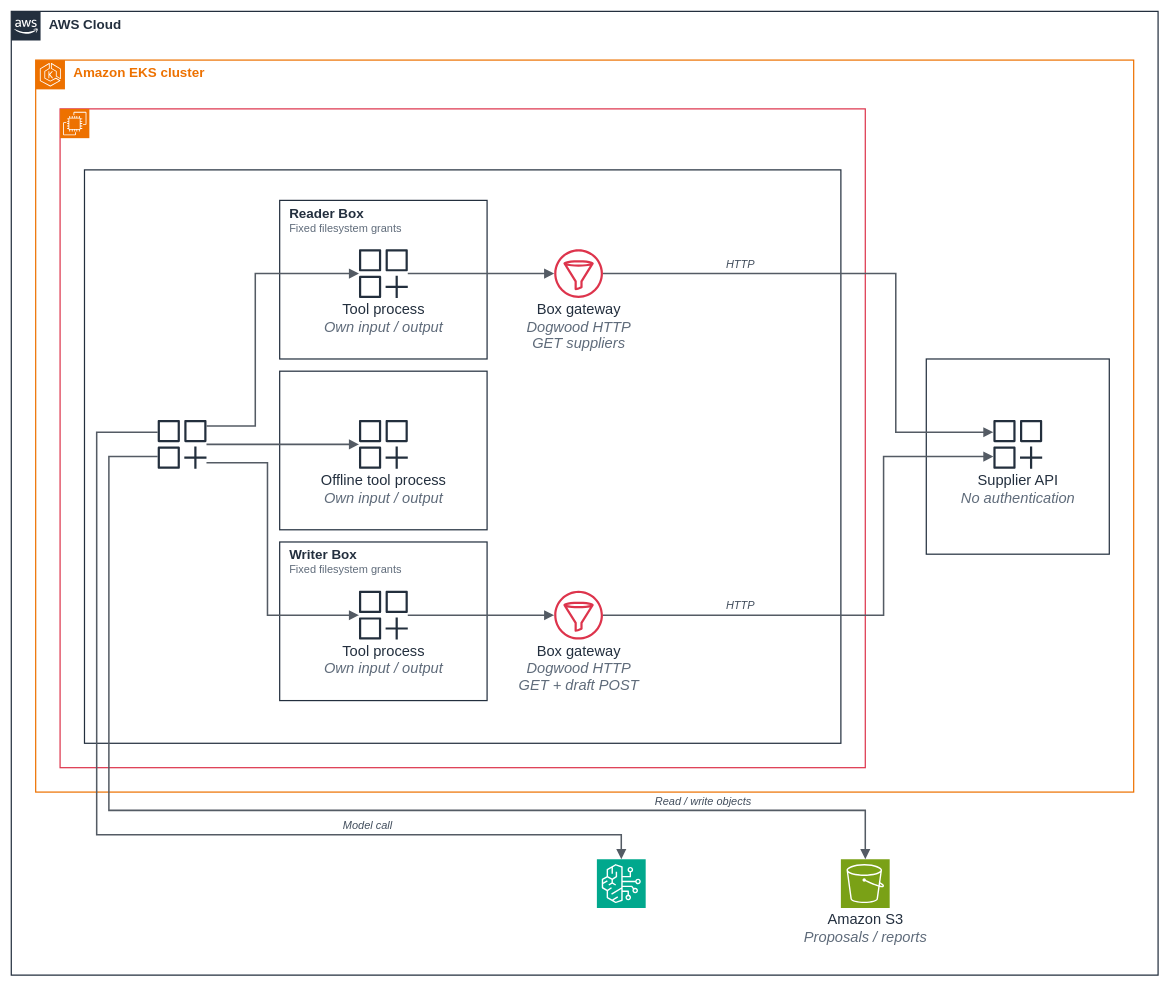
Some shapes in this 1169 by 986 pixel diagram are drawn without their labels. Each missing label, with the box of its shape:
Amazon Bedrock Model response: (596, 859, 646, 908)
Analyst pod Controller and tool processes: (84, 169, 841, 744)
Evaluator Box Fixed filesystem grants: (279, 370, 487, 530)
Nitro sandbox Own Linux kernel: (59, 108, 866, 768)
Supplier pod Ordinary pod: (925, 358, 1110, 554)
Trusted controller Pod Identity: (157, 420, 206, 468)
